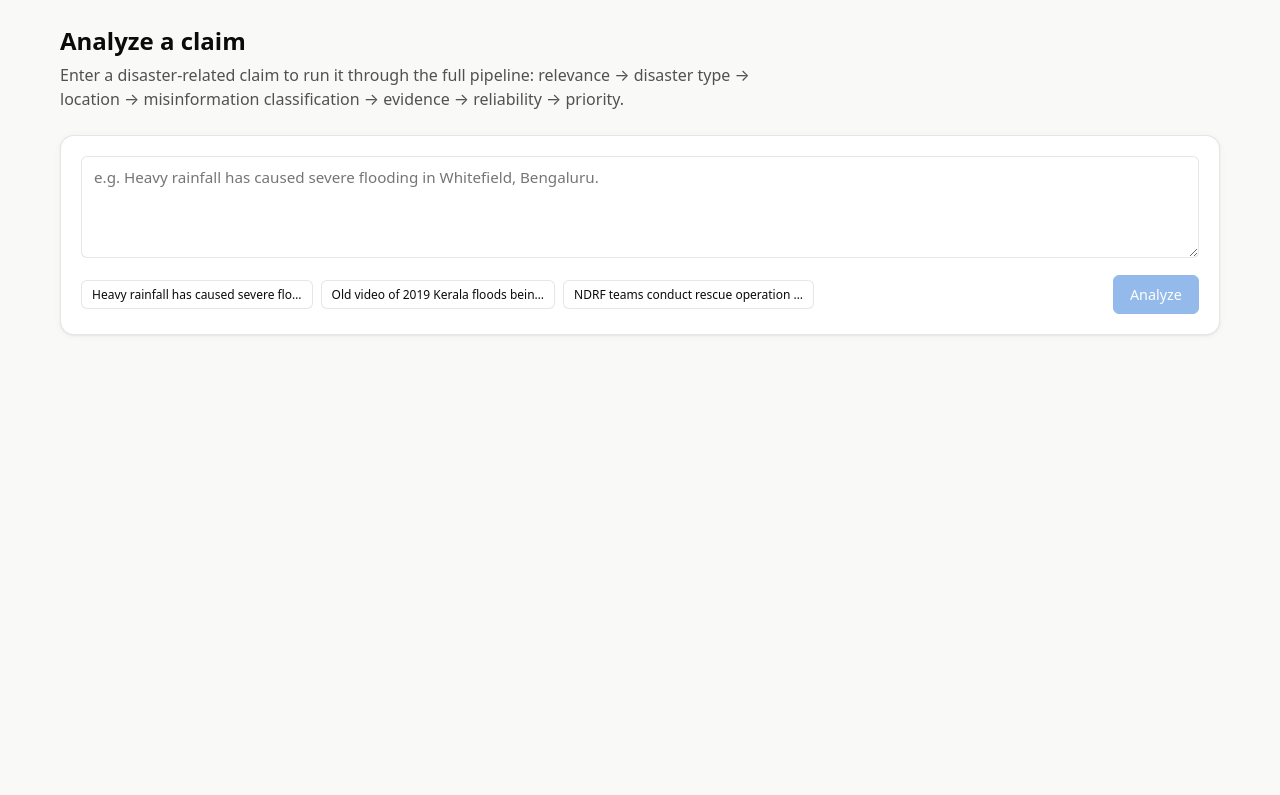
Test: AnalyzeClaim page › shows the analysis result after a successful submission
This screenshot has width=1280, height=795.
Type "Heavy rainfall has caused flooding" into the text box with placeholder "Heavy rainfall" at (640, 207), box [81,156,1199,258]
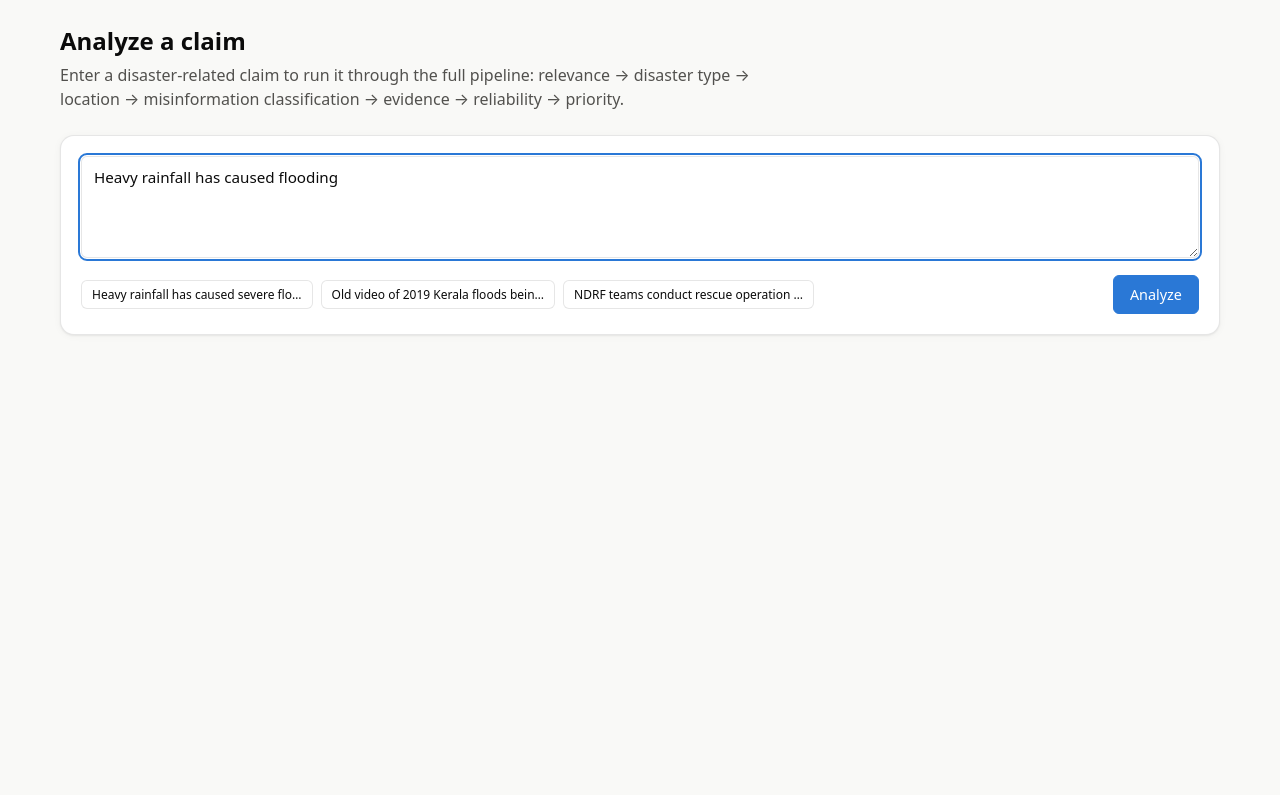
Click the button "Analyze" at (1156, 294), box [1113,275,1199,314]
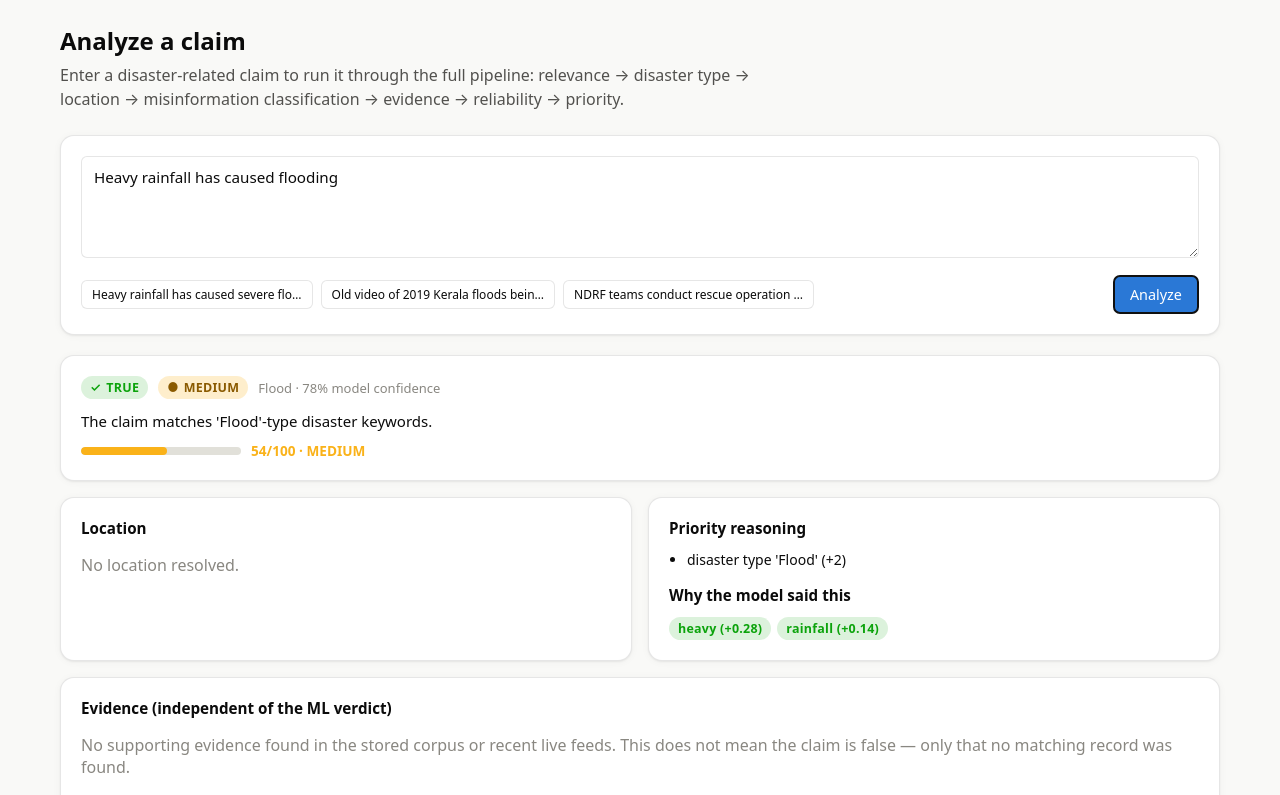
Now the text "Flood · 78% model confidence" is shown, box [258,378,440,396]
Now the text "TRUE" is shown, box [106,379,139,396]
